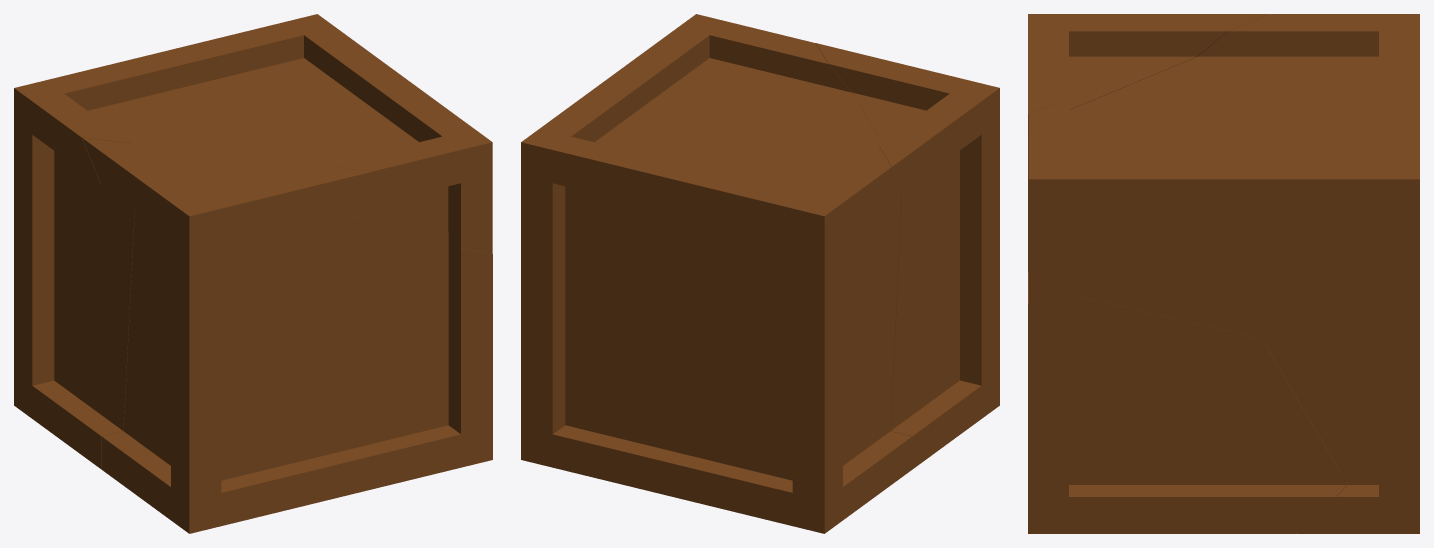
Rendered from cassa_rotta.fbx.
3 renders of one model, left to right at view 1: azimuth 30°, elevation 25°; view 2: azimuth 150°, elevation 25°; view 3: azimuth 270°, elevation 25°, orthographic. The views are drawn at different scales.
Parts seen in each view (by area): view 1: polySurface42, polySurface41, polySurface38, polySurface43, polySurface45, polySurface40, polySurface44; view 2: polySurface44, polySurface40, polySurface38, polySurface42, polySurface43, polySurface45, polySurface39; view 3: polySurface41, polySurface44, polySurface45, polySurface38, polySurface43, polySurface39.
Part boxes in pixels (x1=…): polySurface42: x1=102, y1=210, x2=357, y2=533; polySurface41: x1=307, y1=214, x2=492, y2=492; polySurface38: x1=14, y1=66, x2=372, y2=267; polySurface43: x1=81, y1=137, x2=373, y2=395; polySurface45: x1=265, y1=59, x2=492, y2=253; polySurface40: x1=14, y1=201, x2=134, y2=469; polySurface44: x1=104, y1=14, x2=378, y2=124; polySurface44: x1=521, y1=97, x2=740, y2=442; polySurface40: x1=636, y1=193, x2=912, y2=533; polySurface38: x1=721, y1=43, x2=911, y2=396; polySurface42: x1=890, y1=183, x2=999, y2=469; polySurface43: x1=816, y1=43, x2=999, y2=266; polySurface45: x1=583, y1=14, x2=815, y2=139; polySurface39: x1=521, y1=356, x2=745, y2=514; polySurface41: x1=1028, y1=272, x2=1347, y2=533; polySurface44: x1=1247, y1=62, x2=1419, y2=484; polySurface45: x1=1028, y1=110, x2=1282, y2=338; polySurface38: x1=1029, y1=14, x2=1419, y2=137; polySurface43: x1=1028, y1=14, x2=1268, y2=196; polySurface39: x1=1297, y1=417, x2=1419, y2=533.
Bounding box in the file's own units: 1 × 1 × 1.
